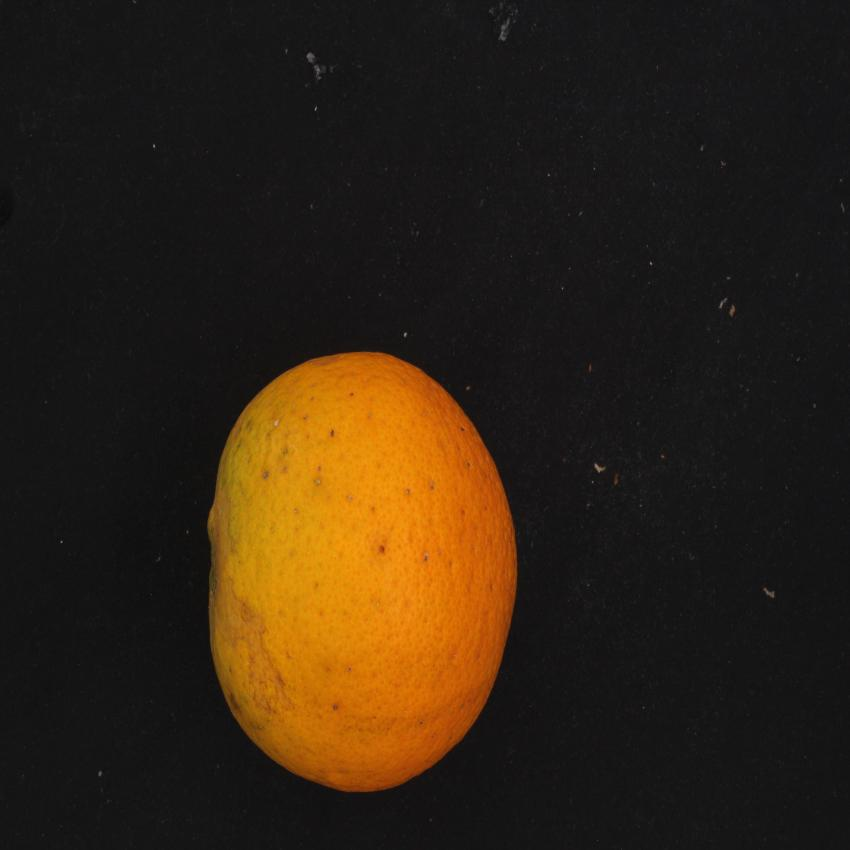Mal estado: (189, 323, 530, 808)
